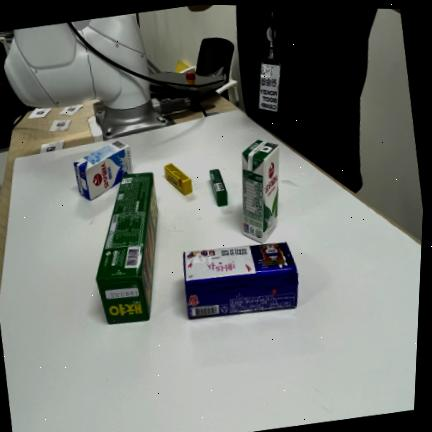cracker_ace: (184, 243, 298, 318)
cracker_vege: (96, 173, 158, 324)
gum_green: (210, 169, 228, 206)
gum_yellow: (165, 163, 192, 195)
milk_blue: (74, 140, 132, 200)
milk_green: (242, 140, 279, 243)
